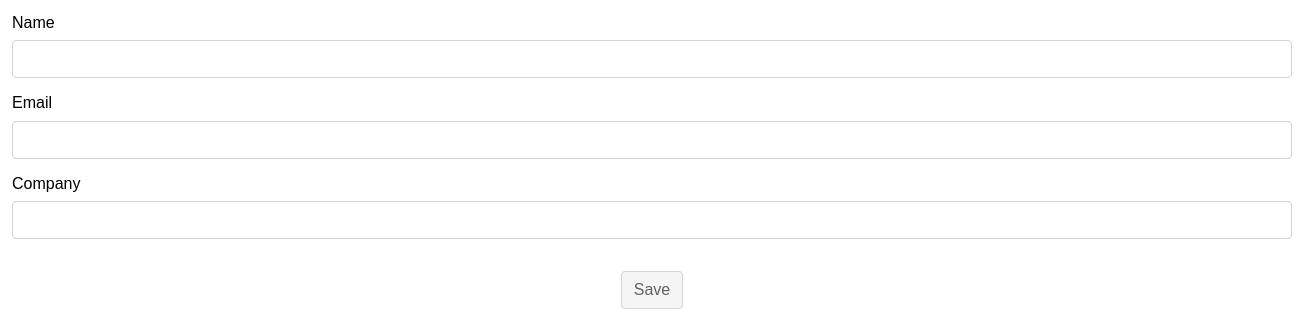
Test case: NewClientForm › should render an active Save button when all inputs are not empty
Type "Bob" into the field labelled "Name". click: {"x": 652, "y": 59}
box: [12,40,1292,78]
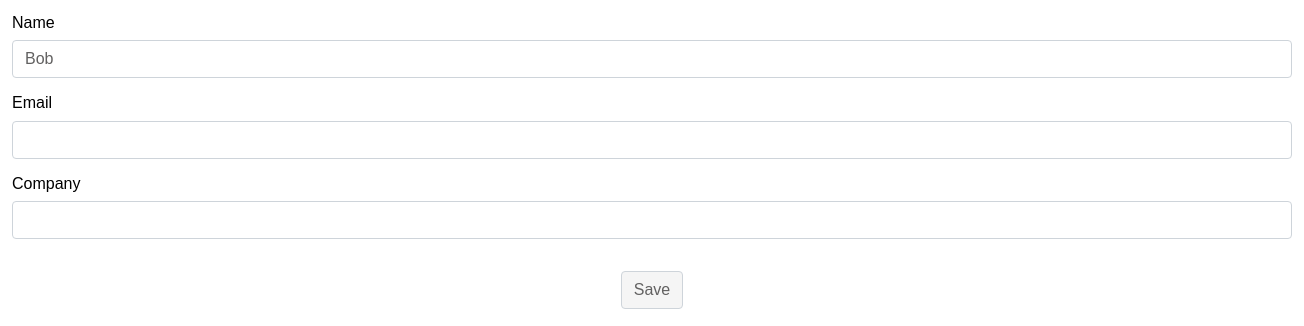
Type "bob@gmail.com" into the field labelled "Email". click: {"x": 652, "y": 140}
box: [12,121,1292,159]
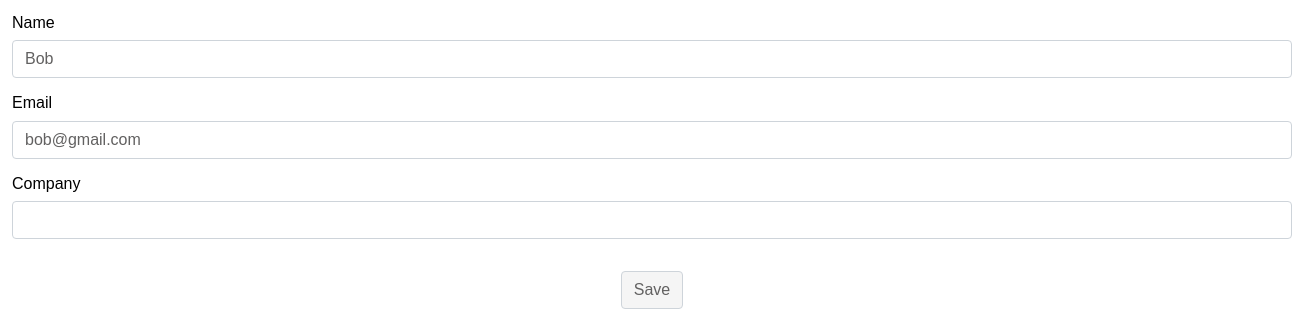
Type "Google" into the field labelled "Company". click: {"x": 652, "y": 220}
box: [12,201,1292,239]
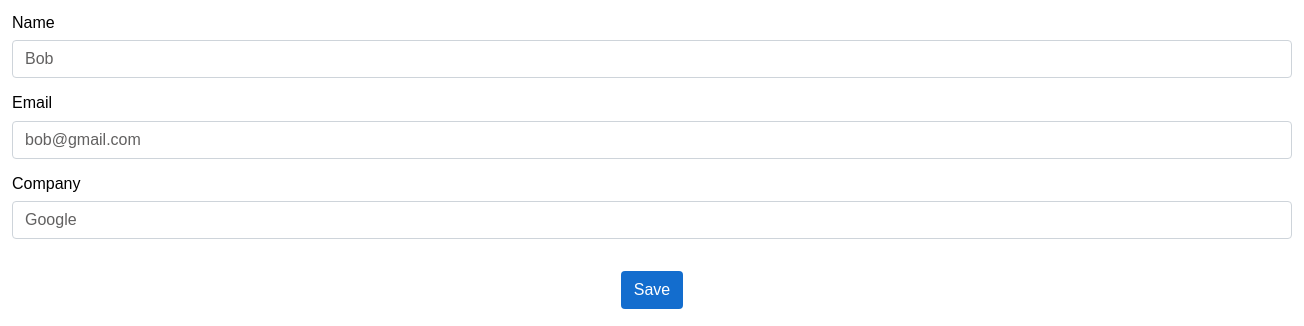
expect the button "Save" is enabled: met, box [621,271,683,309]
